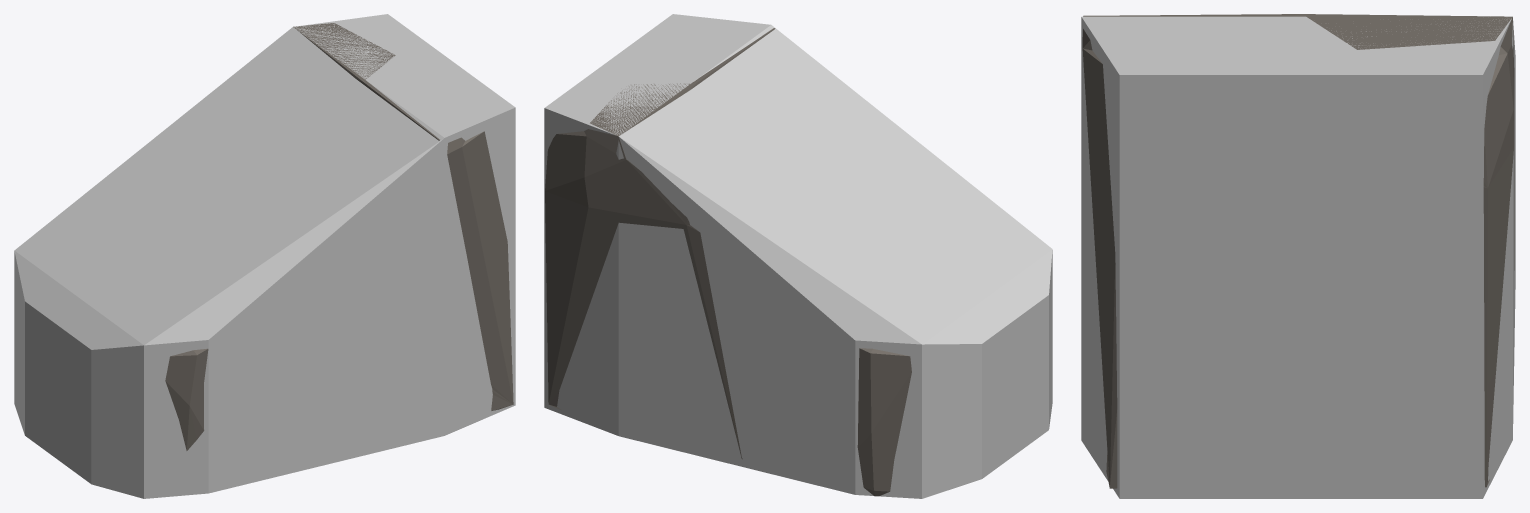
Rendered from SM_Env_Rock_Stairs_02.fbx.
3 renders of one model, left to right at view 1: azimuth 30°, elevation 25°; view 2: azimuth 150°, elevation 25°; view 3: azimuth 270°, elevation 25°, orthographic. The views are drawn at different scales.
Visible parts, largest first — view 1: SM_Env_Rock_Stairs_02_ConvexHulls, SM_Env_Rock_Stairs_02; view 2: SM_Env_Rock_Stairs_02_ConvexHulls, SM_Env_Rock_Stairs_02; view 3: SM_Env_Rock_Stairs_02_ConvexHulls, SM_Env_Rock_Stairs_02.
Boxes of the visible parts, bbox=[...] form: SM_Env_Rock_Stairs_02_ConvexHulls: bbox=[14, 14, 515, 498]; SM_Env_Rock_Stairs_02: bbox=[165, 23, 513, 450]; SM_Env_Rock_Stairs_02_ConvexHulls: bbox=[544, 14, 1052, 498]; SM_Env_Rock_Stairs_02: bbox=[545, 28, 911, 496]; SM_Env_Rock_Stairs_02_ConvexHulls: bbox=[1081, 16, 1515, 498]; SM_Env_Rock_Stairs_02: bbox=[1082, 14, 1514, 488].
Size of the model in its own units: 394 by 262 by 284.
2 materials, 1 textured.
